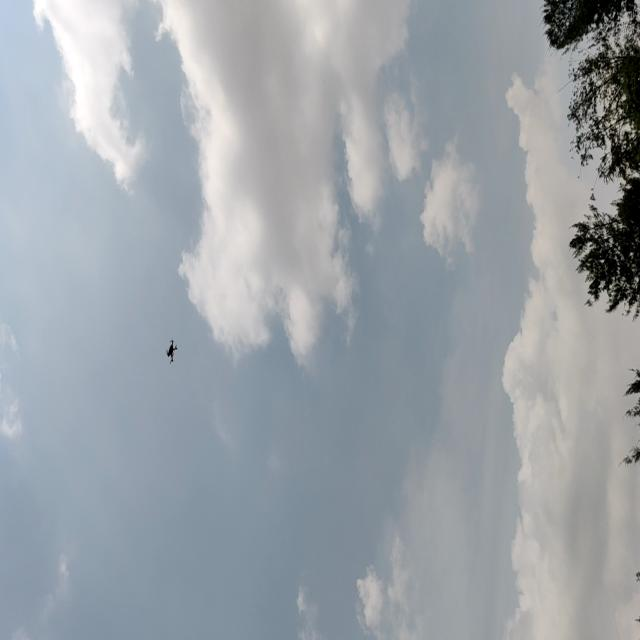drone: (157, 337, 186, 369)
